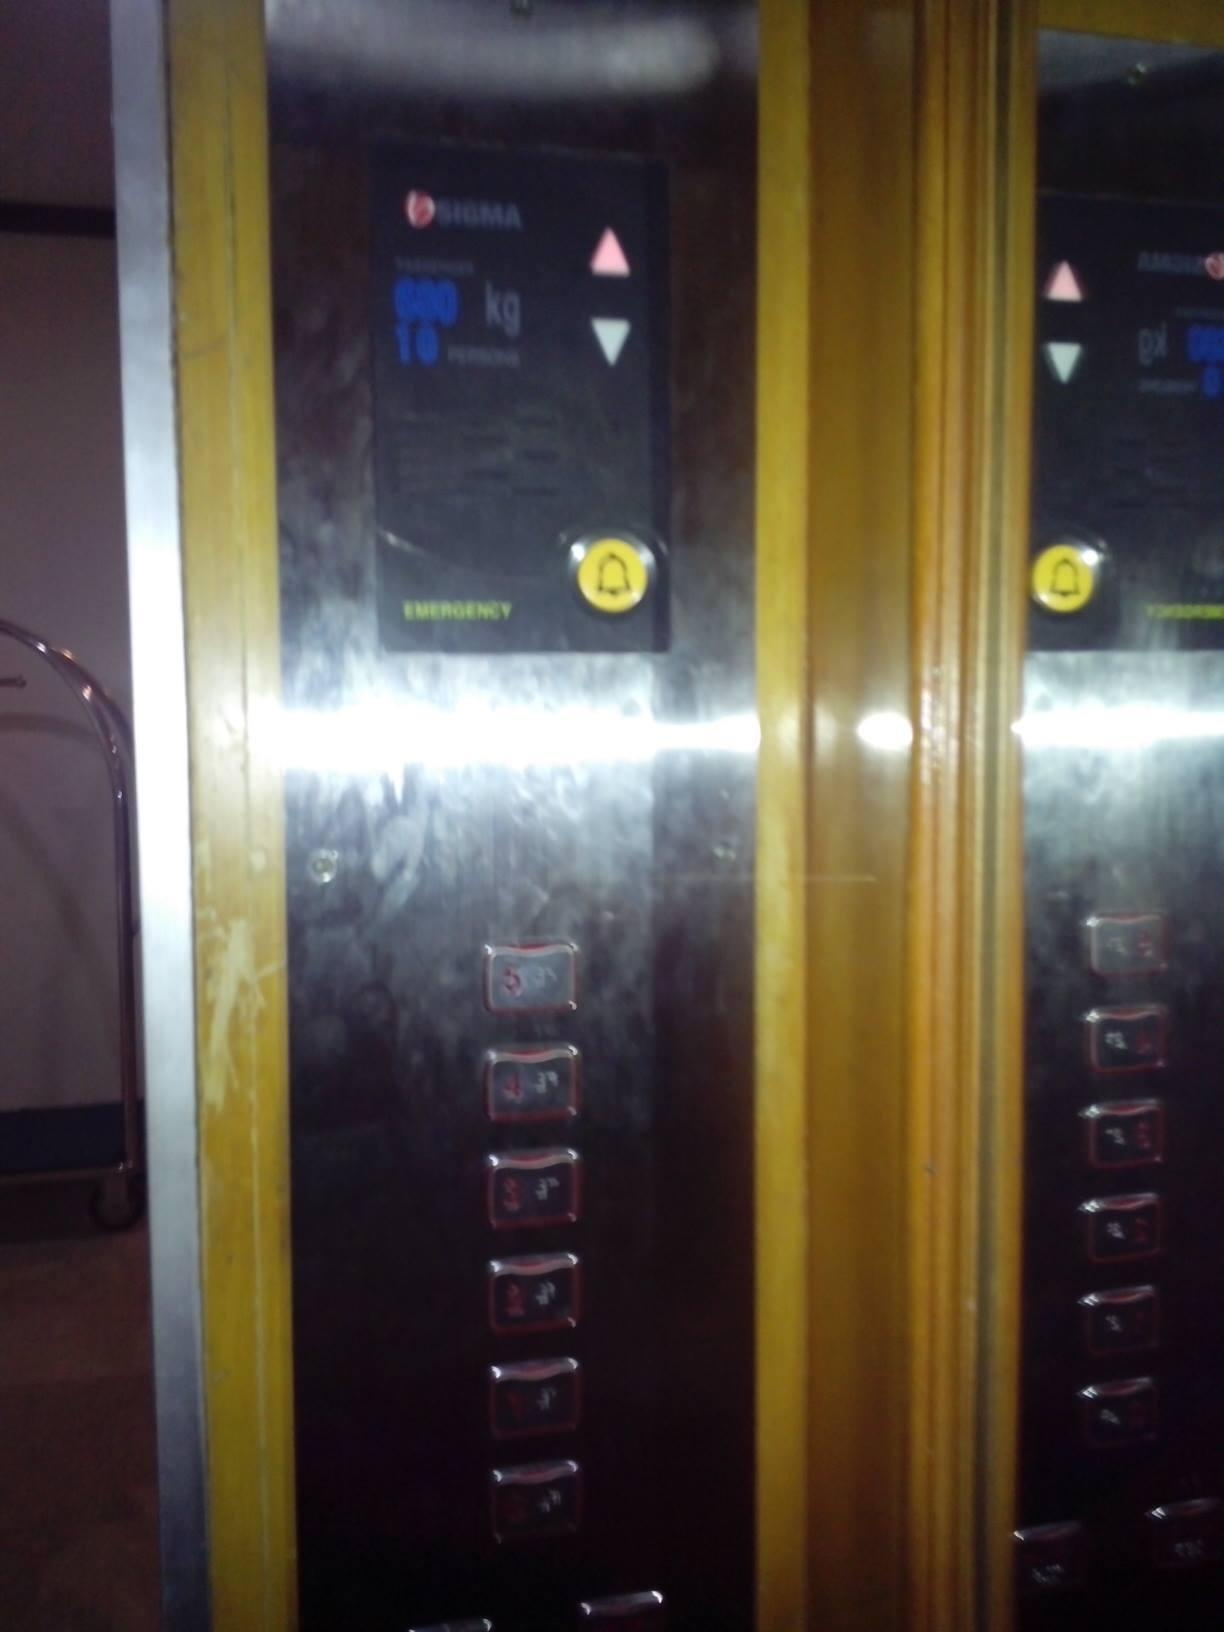3: (480, 1148, 582, 1231)
4: (478, 1041, 582, 1122)
5: (481, 939, 584, 1022)
alarm: (564, 524, 660, 621), (1030, 541, 1098, 616)
blur: (483, 1353, 586, 1443), (486, 1459, 584, 1547), (481, 1253, 582, 1335)
down: (1043, 337, 1086, 386)
unknown: (1081, 1001, 1173, 1076), (1079, 1099, 1170, 1173), (1071, 1375, 1162, 1450), (1083, 910, 1173, 984), (1074, 1191, 1165, 1264), (1071, 1282, 1162, 1356), (1005, 1520, 1097, 1593), (1140, 1500, 1224, 1573)
up: (1041, 257, 1085, 308)
